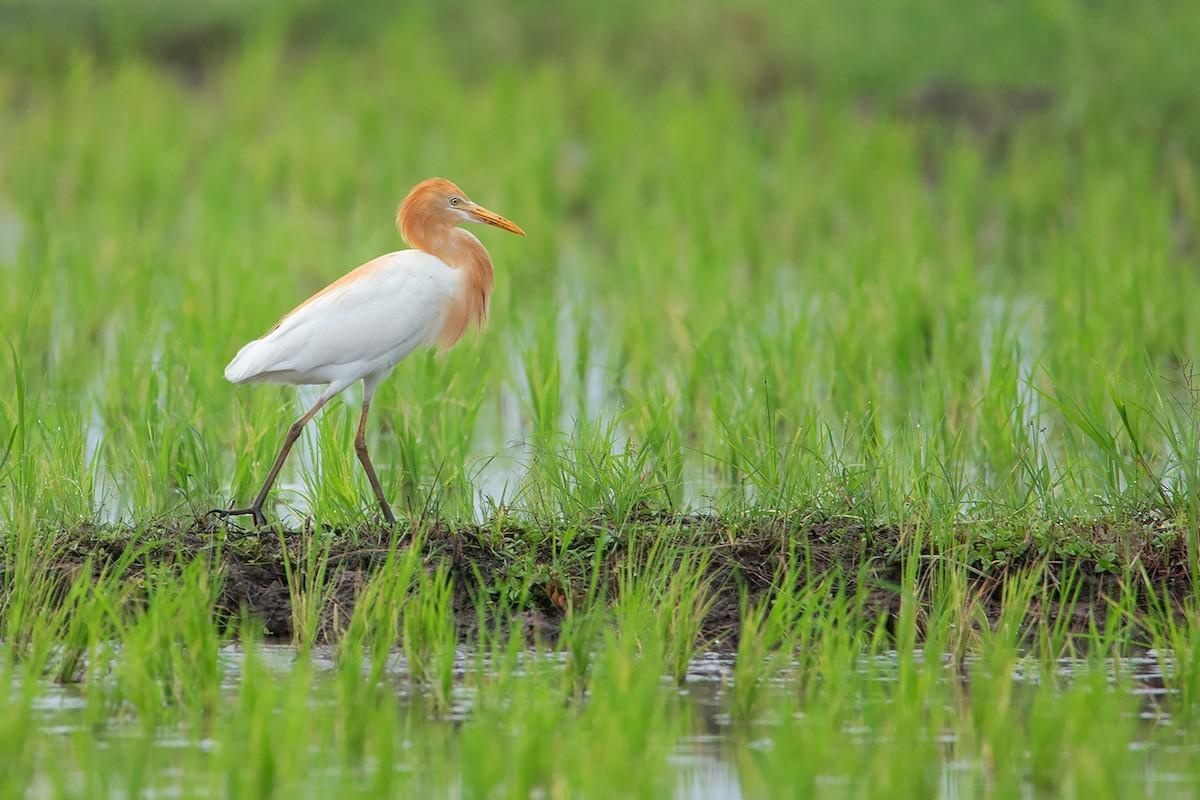egret: (221, 174, 533, 580)
